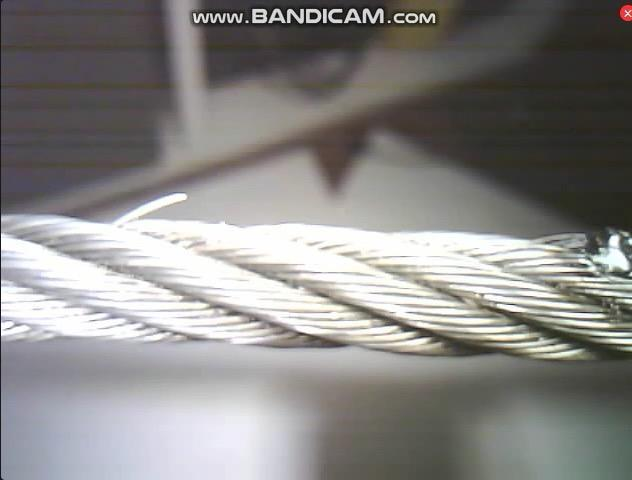break: (100, 170, 203, 240)
thunderbolt: (562, 224, 632, 292)
